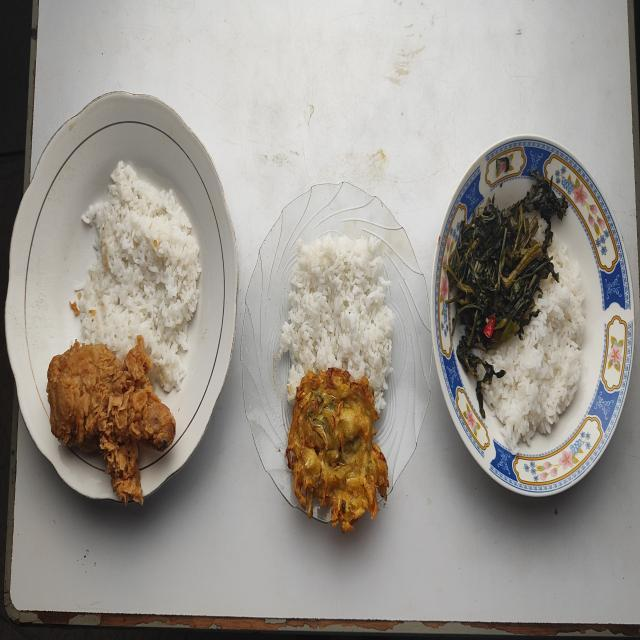nasi_putih: (78, 162, 202, 392), (475, 241, 586, 449), (280, 234, 393, 408)
tumis_kangkung: (442, 171, 568, 418)
